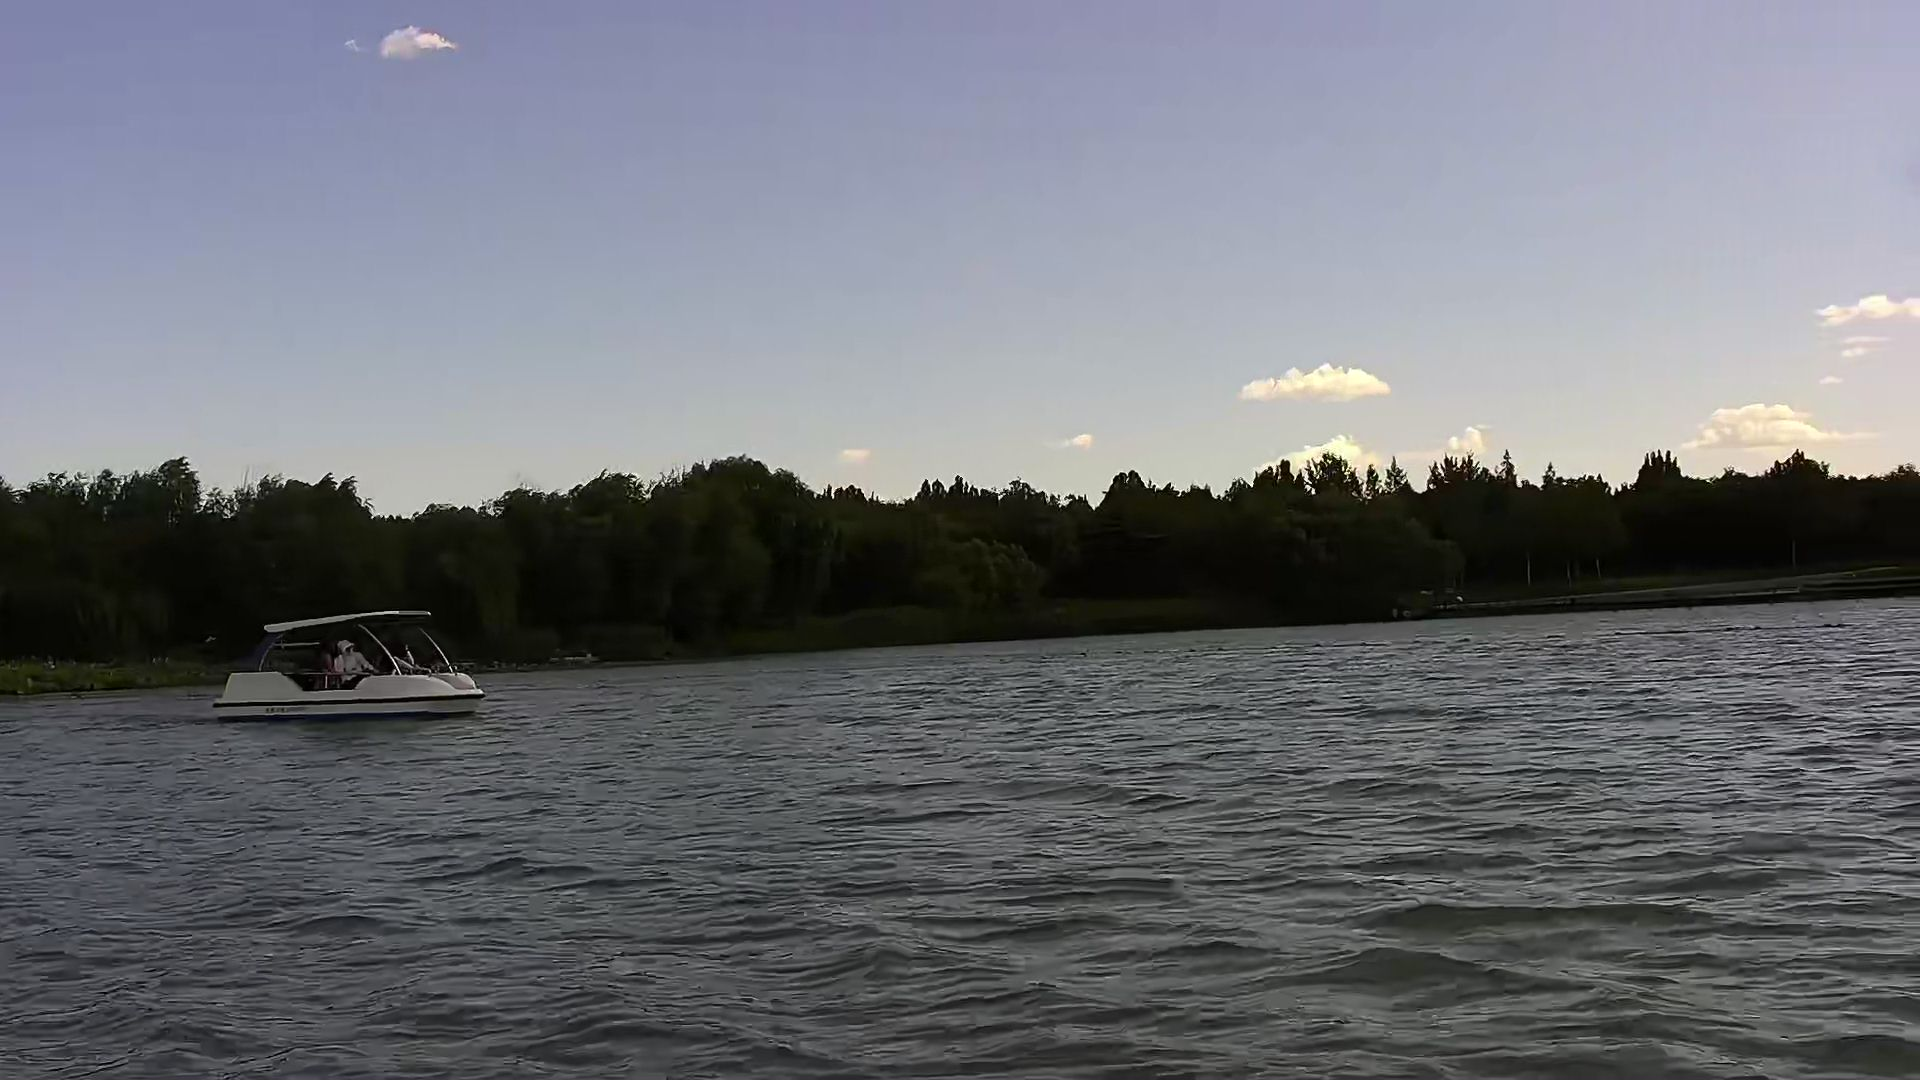boat: (211, 607, 488, 721)
